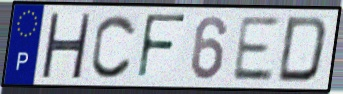6: (187, 14, 230, 82)
C: (89, 12, 139, 81)
D: (274, 14, 331, 85)
E: (229, 14, 282, 83)
F: (135, 12, 189, 82)
H: (38, 11, 93, 81)
